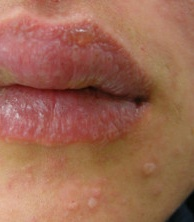SJS-TEN: (0, 12, 153, 153), (53, 178, 115, 222), (132, 152, 169, 187)
